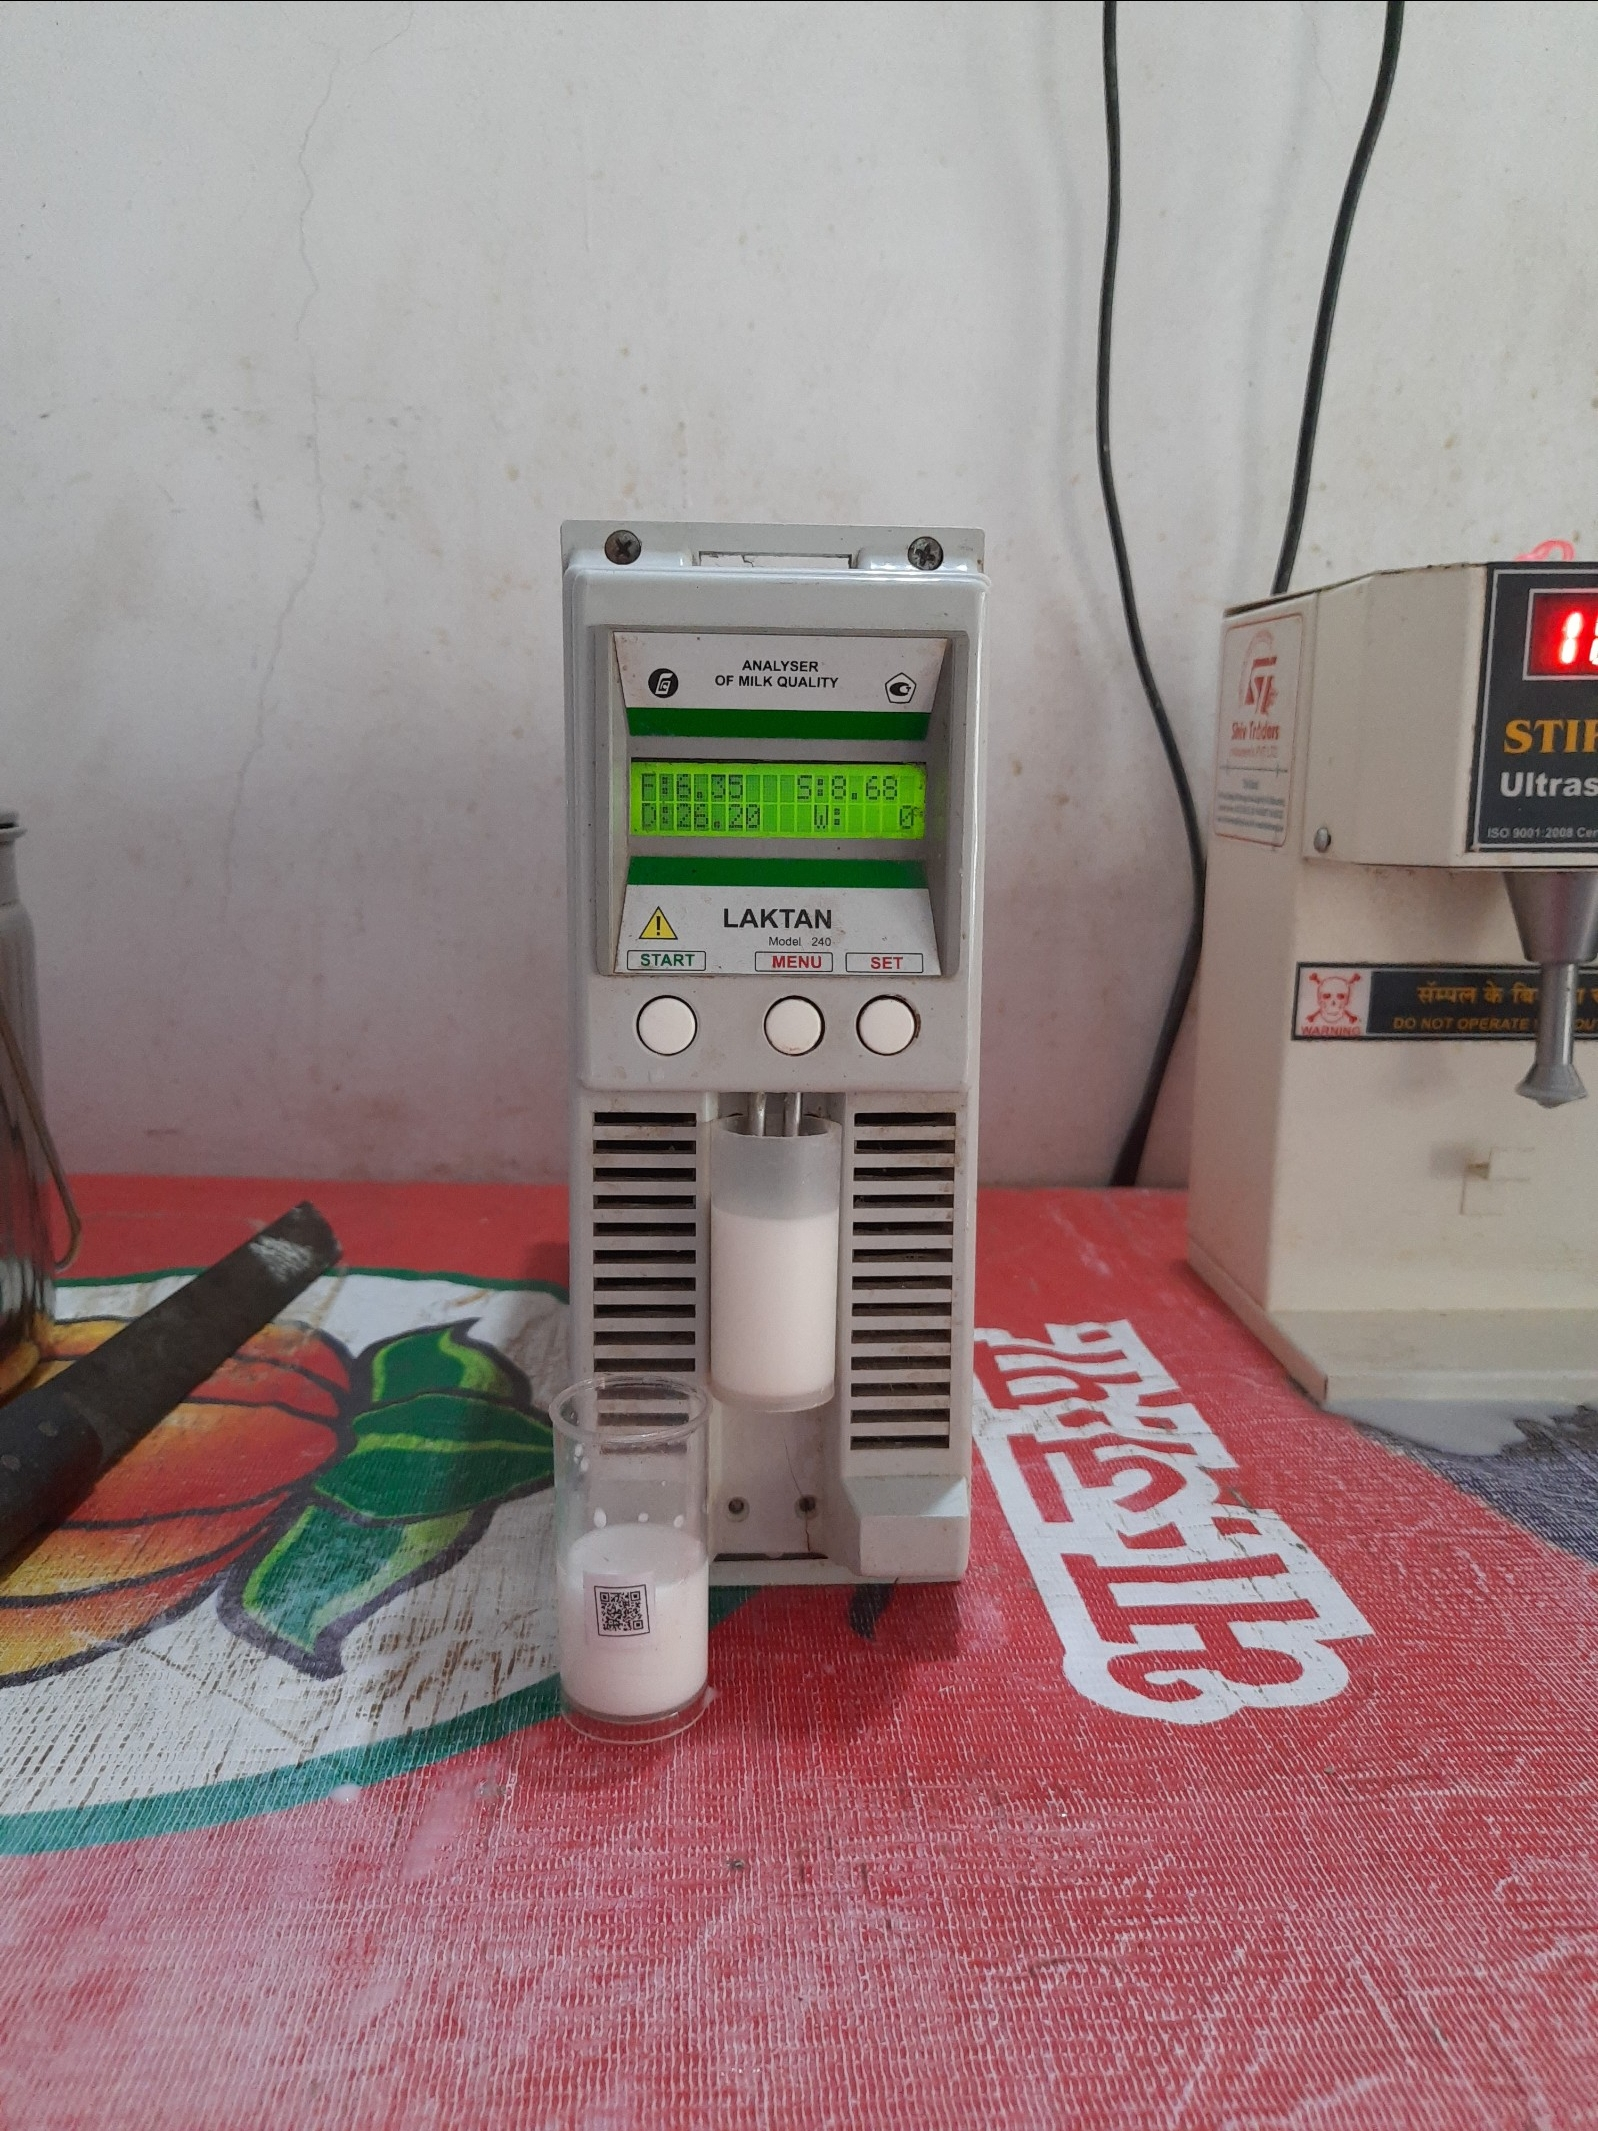lcd: (613, 762, 932, 852)
qr: (587, 1571, 665, 1653)
